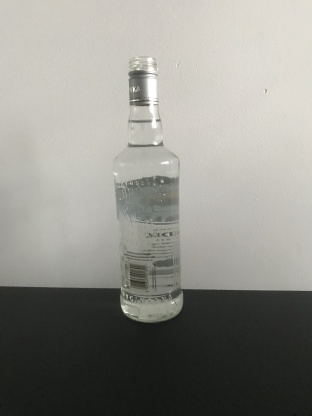nakretka: (126, 54, 160, 105)
